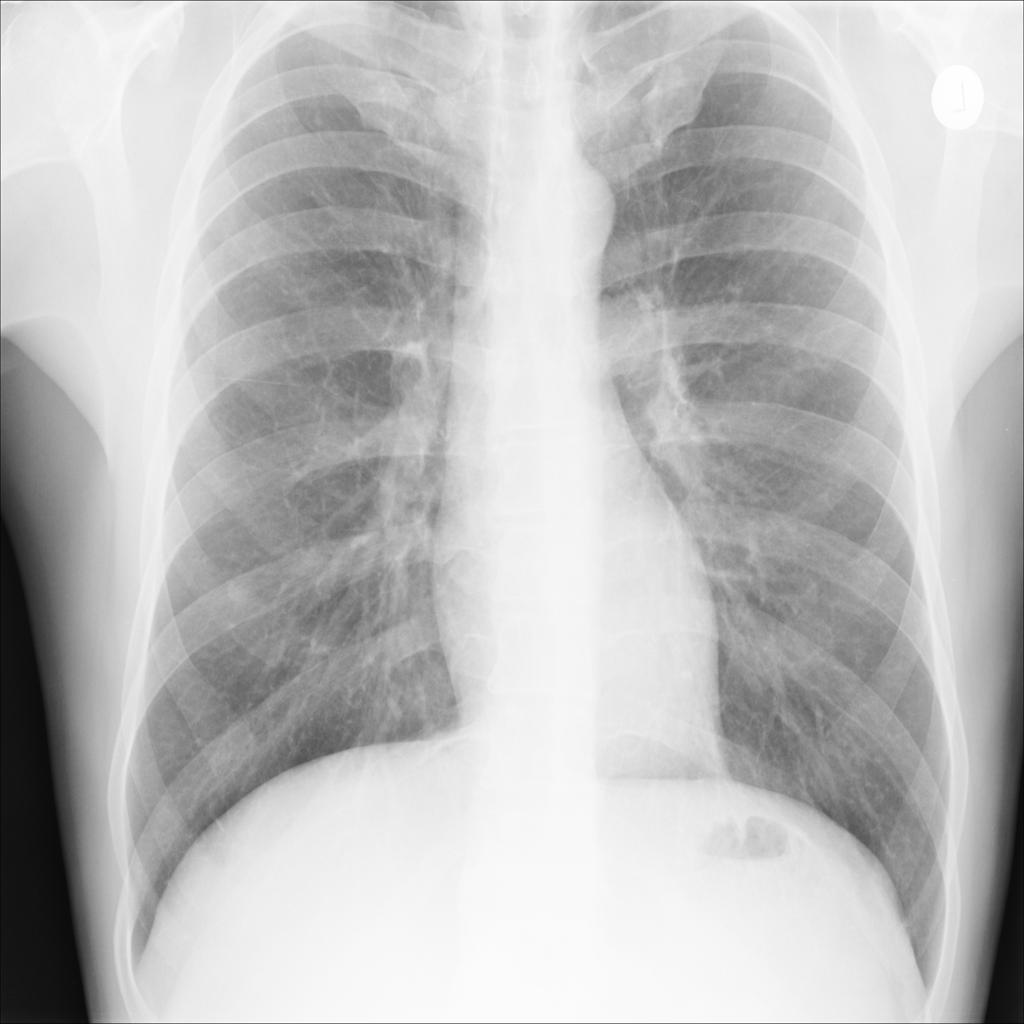nodule: (215, 561, 267, 613)
